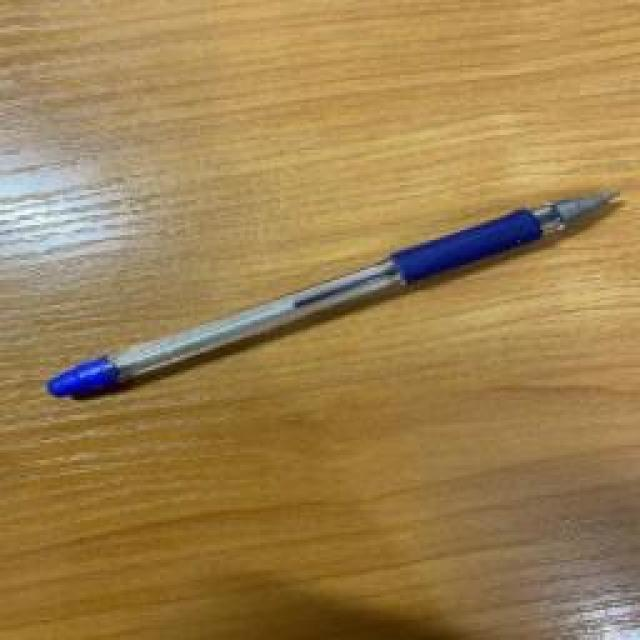Pen - Non Recyclable: (40, 188, 623, 402)
